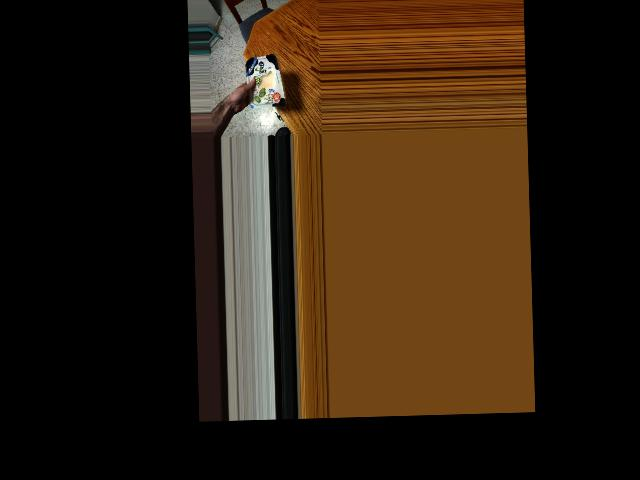cheese: (239, 54, 285, 109)
